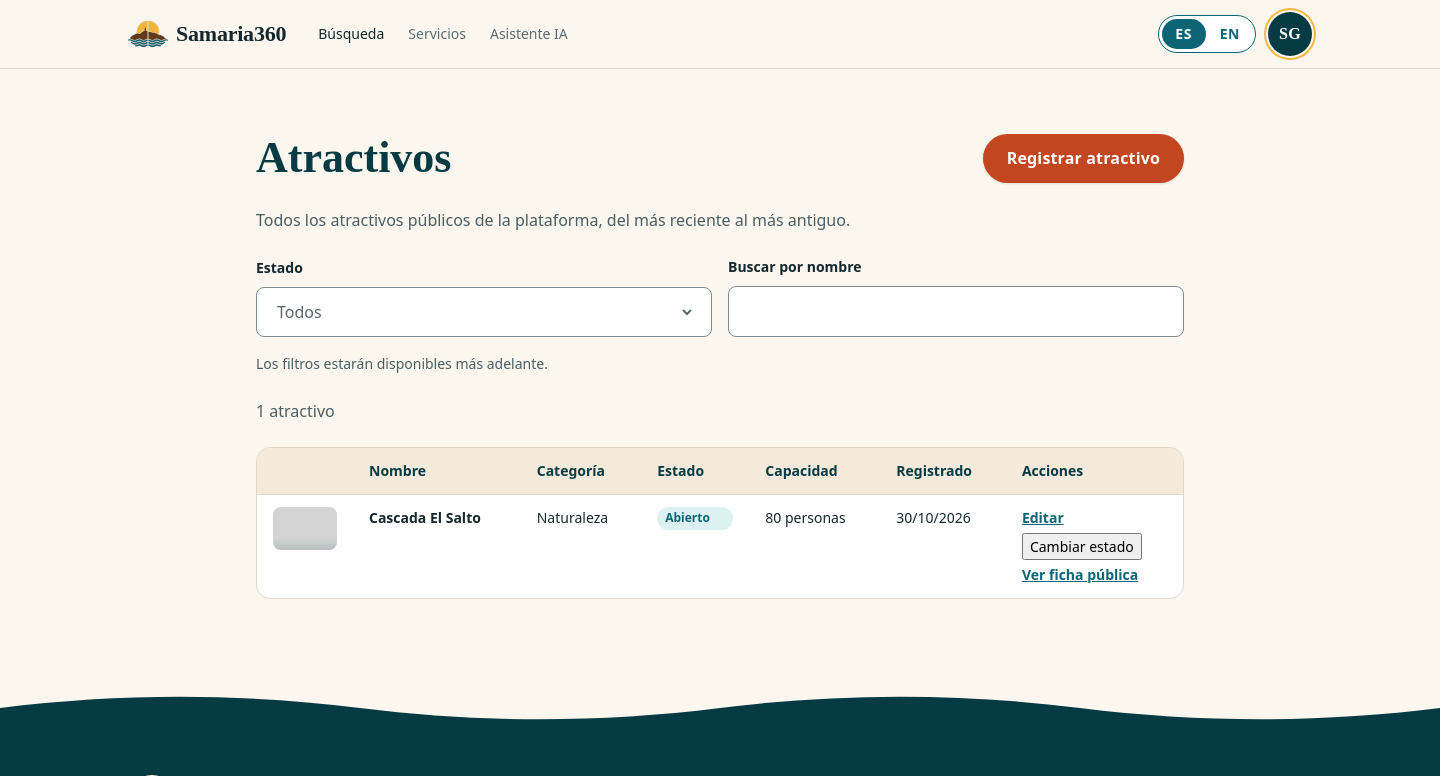
Test: Cambiar estado operativo › desde el panel: el estado actual no se puede elegir; al guardar, la fila y el anuncio muestran el nuevo
Click the button with aria-label "Cambiar el estado de Cascada El Salto" at (1082, 547), box x1=1022 y1=533 x2=1142 y2=560
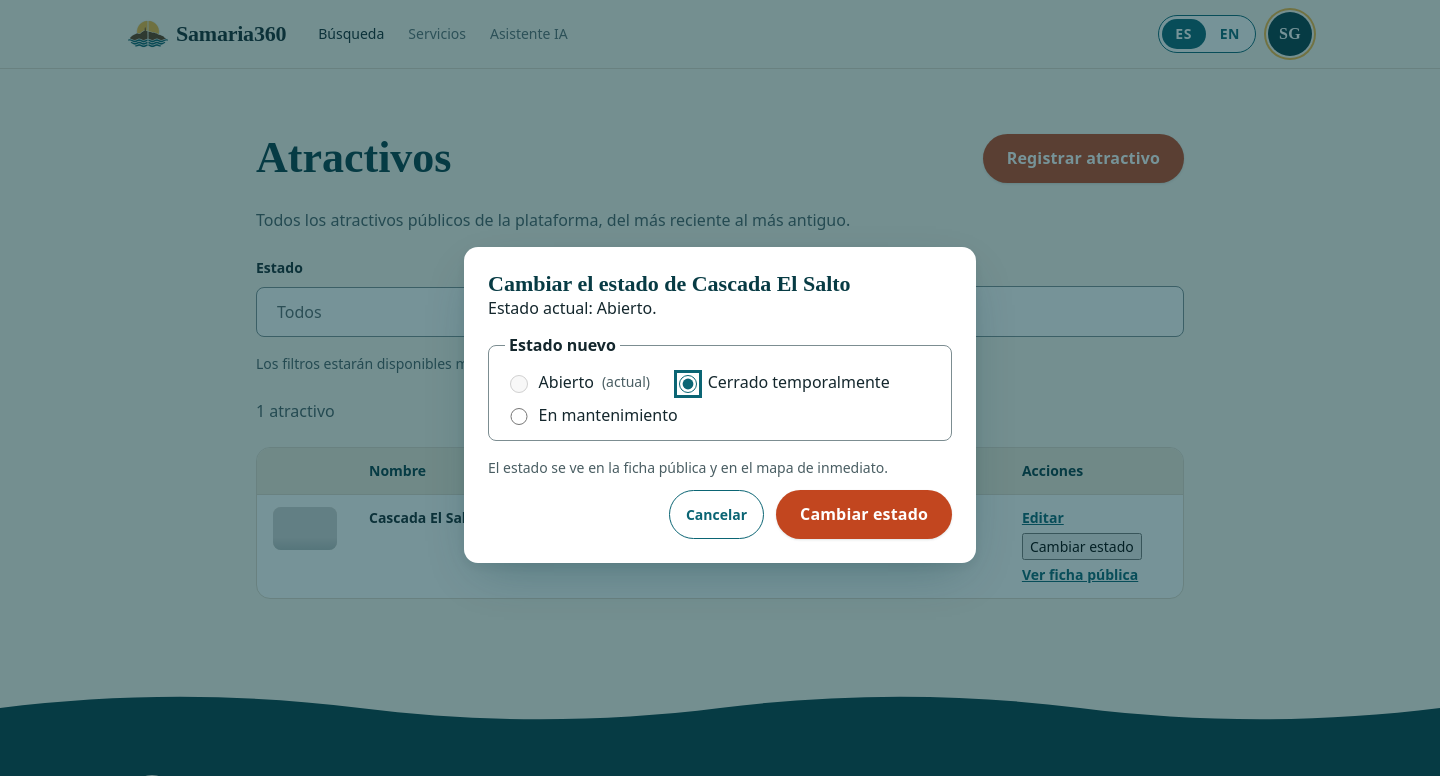
Check: the text "Estado actual: Abierto." is shown, box x1=488 y1=297 x2=656 y2=319
Check: the radio button labelled "Abierto (actual)" is disabled, box x1=510 y1=375 x2=528 y2=393
Click the radio button labelled "En mantenimiento" at (519, 417), box x1=510 y1=408 x2=528 y2=425
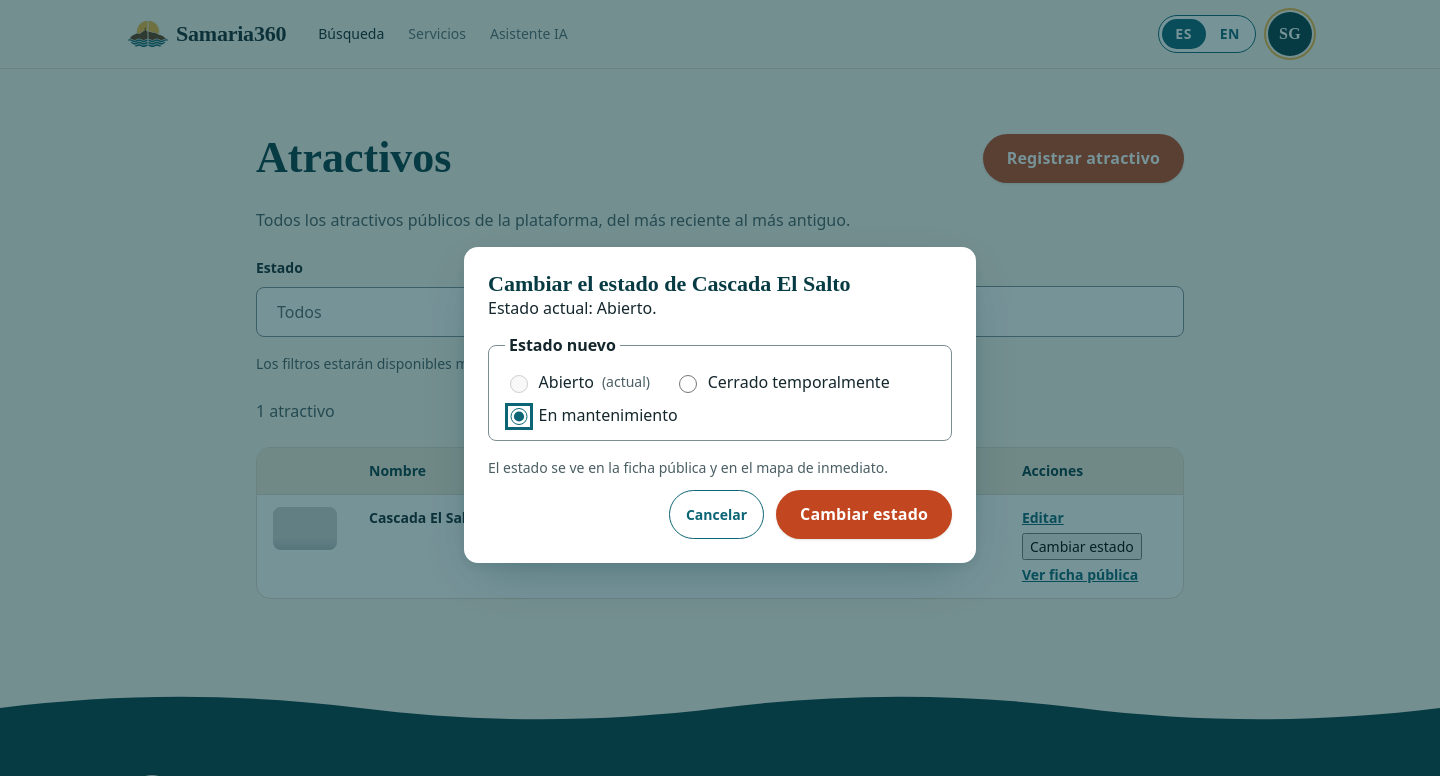
Click the button "Cambiar estado" at (864, 515), box x1=776 y1=490 x2=952 y2=539
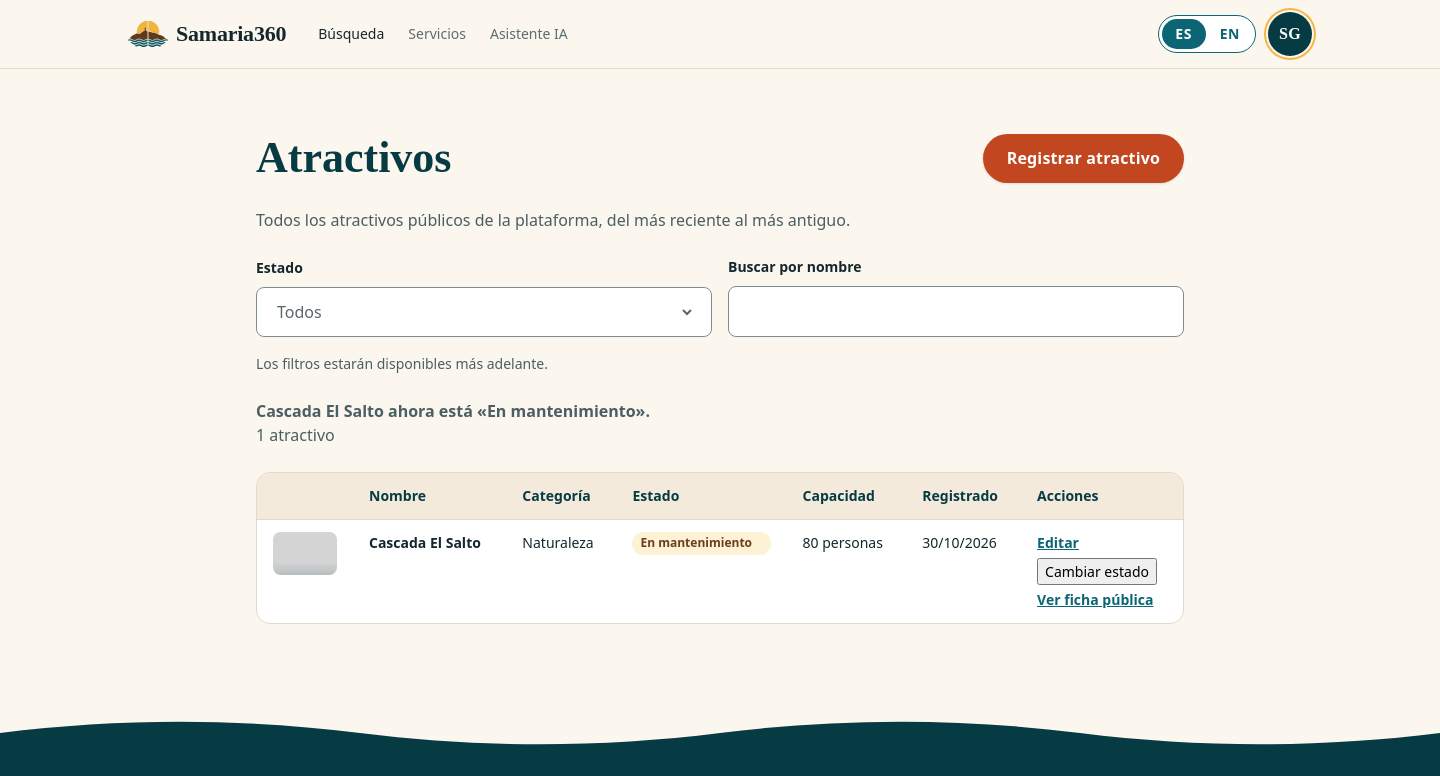
Check: the text "Cascada El Salto ahora está «En mantenimiento»." is shown, box x1=256 y1=400 x2=650 y2=422
Check: the dialog is gone
Check: the table shows "En mantenimiento", box x1=640 y1=534 x2=752 y2=551
